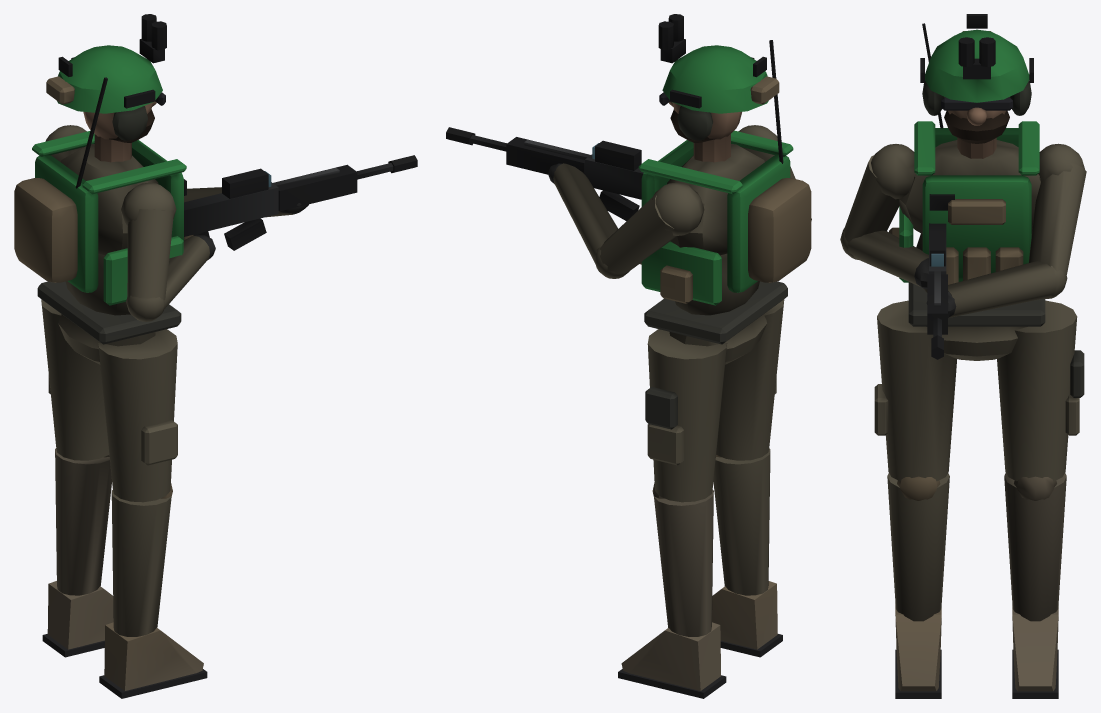
The model's file is u_rifle.glb.
3 renders of one model, left to right at view 1: azimuth 30°, elevation 25°; view 2: azimuth 150°, elevation 25°; view 3: azimuth 270°, elevation 25°, orthographic. The views are drawn at different scales.
Parts seen in each view (by area): view 1: Rifle_Walls, Rifle_shL, Rifle_shR, Rifle_thL, Rifle_Details, Rifle_thR; view 2: Rifle_Walls, Rifle_shR, Rifle_shL, Rifle_Details, Rifle_thR, Rifle_thL; view 3: Rifle_Walls, Rifle_shR, Rifle_shL, Rifle_thR, Rifle_thL, Rifle_Details.
Boxes of the visible parts, x1,y1,x2,y2 form: Rifle_Walls: [14, 38, 417, 364]; Rifle_shL: [99, 483, 207, 698]; Rifle_shR: [42, 448, 113, 657]; Rifle_thL: [98, 329, 177, 502]; Rifle_Details: [37, 14, 193, 465]; Rifle_thR: [41, 299, 109, 460]; Rifle_Walls: [446, 39, 811, 364]; Rifle_shR: [618, 482, 726, 698]; Rifle_shL: [712, 448, 782, 657]; Rifle_Details: [640, 14, 787, 465]; Rifle_thR: [647, 329, 727, 502]; Rifle_thL: [716, 299, 784, 460]; Rifle_Walls: [840, 29, 1086, 360]; Rifle_shR: [1004, 473, 1066, 698]; Rifle_shL: [887, 473, 949, 698]; Rifle_thR: [997, 300, 1077, 481]; Rifle_thL: [877, 300, 957, 481]; Rifle_Details: [874, 14, 1084, 435].
Size of the model in its own units: 0.376 by 0.62 by 0.2126.
